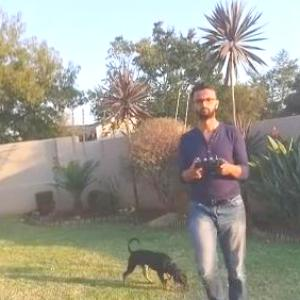follow: (177, 79, 253, 299)
null: (121, 233, 193, 291)
